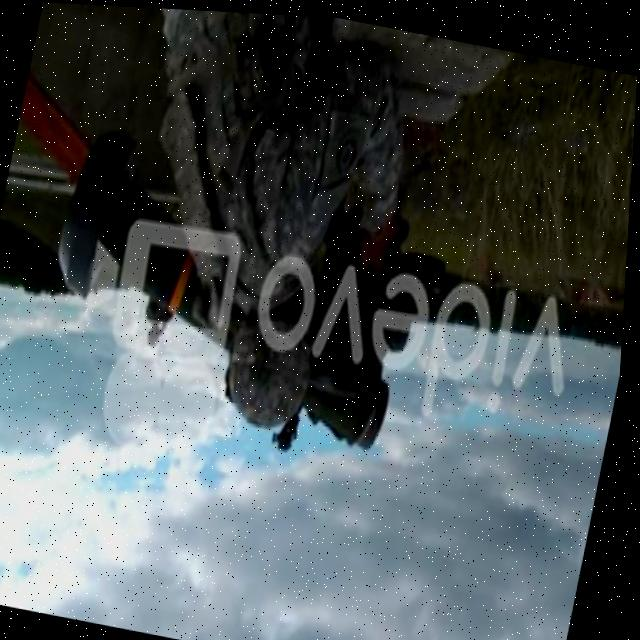rocket: (41, 119, 276, 352)
